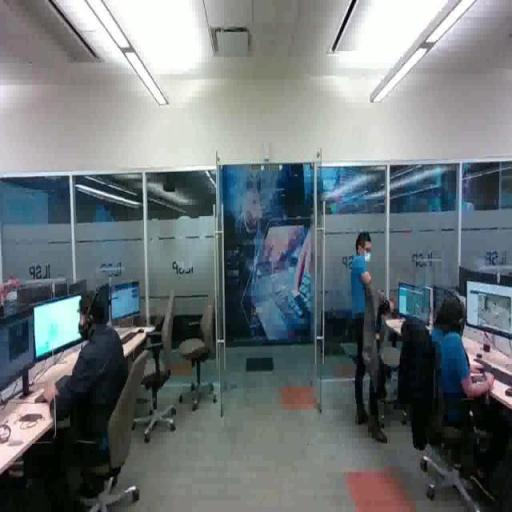person: (15, 287, 146, 512), (418, 292, 512, 507), (347, 229, 390, 446)
